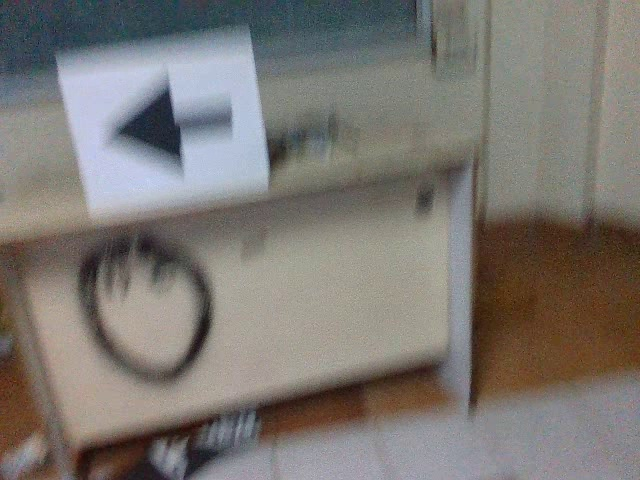Left: (100, 69, 238, 172)
